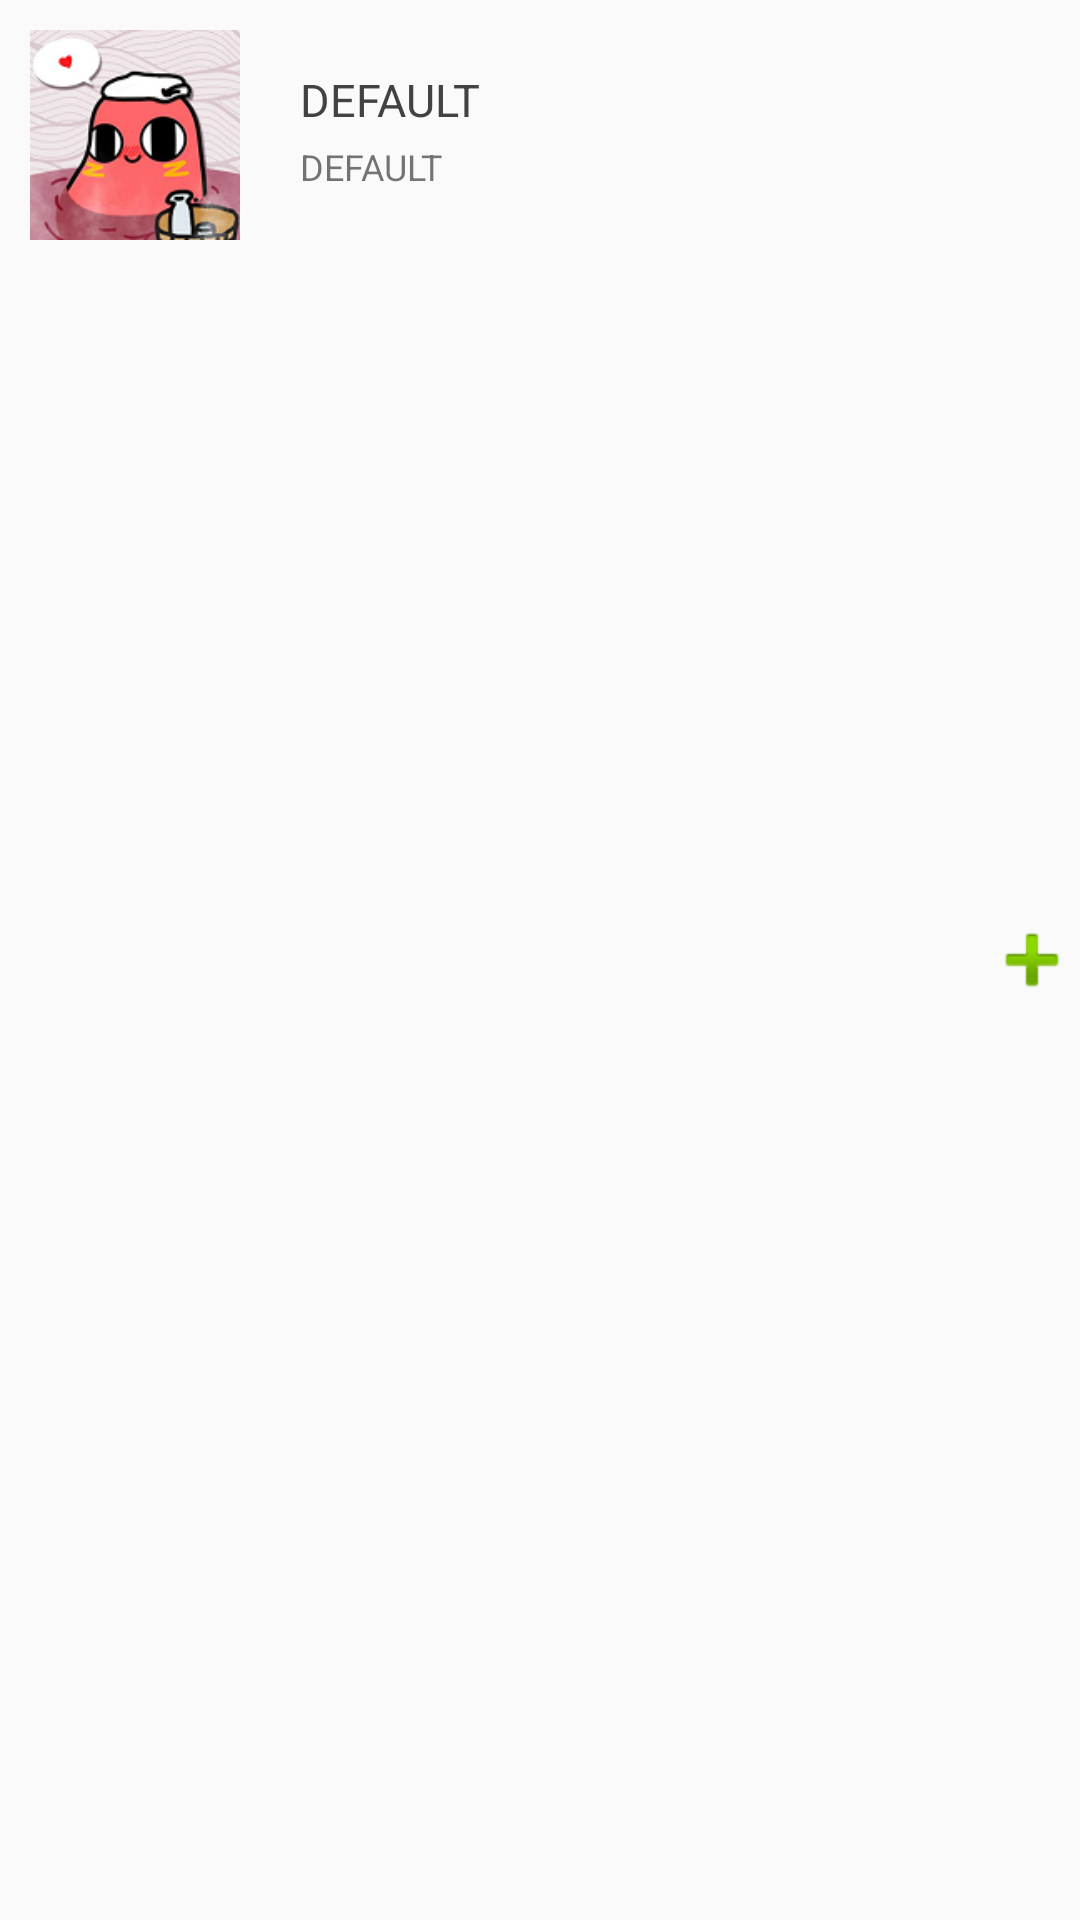

Icon click points for this 1080*1920 phone screenshot, format (x,y):
add: (1032,960)
